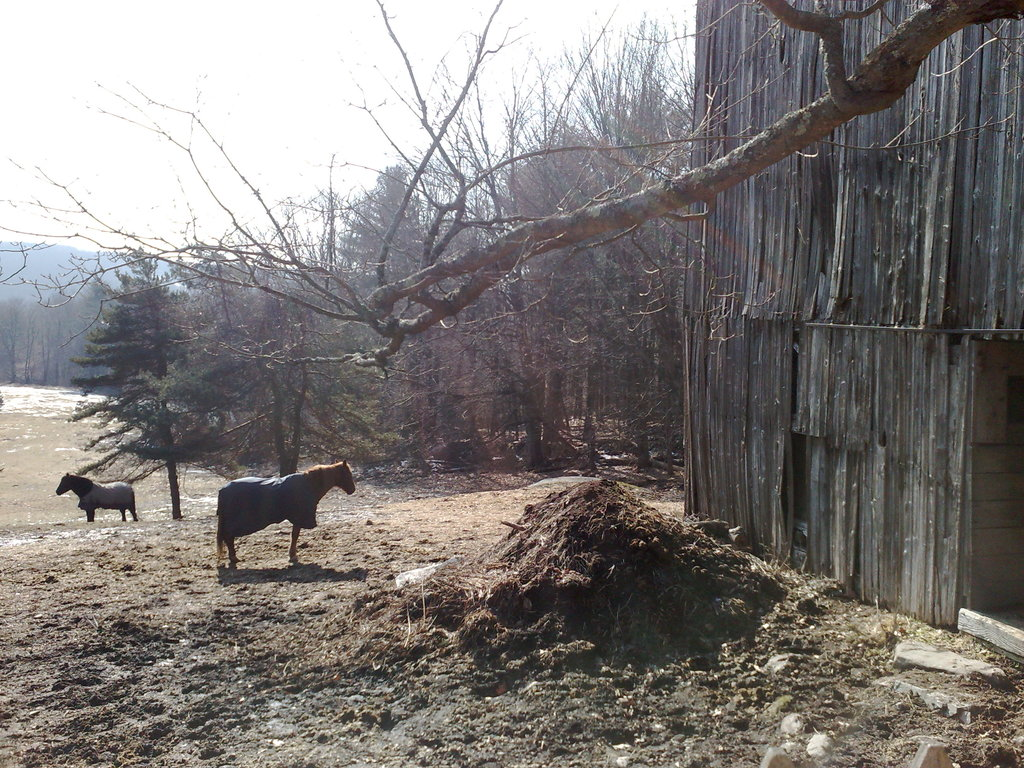horse: (213, 457, 356, 568), (56, 472, 138, 522)
